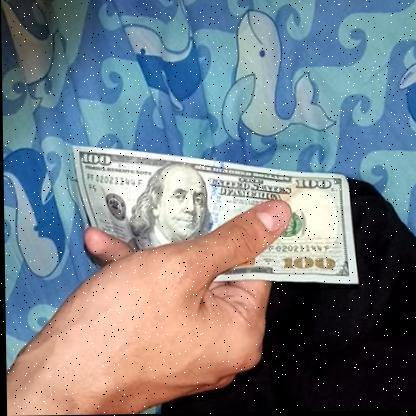one_hundred-front: (71, 146, 360, 290)
